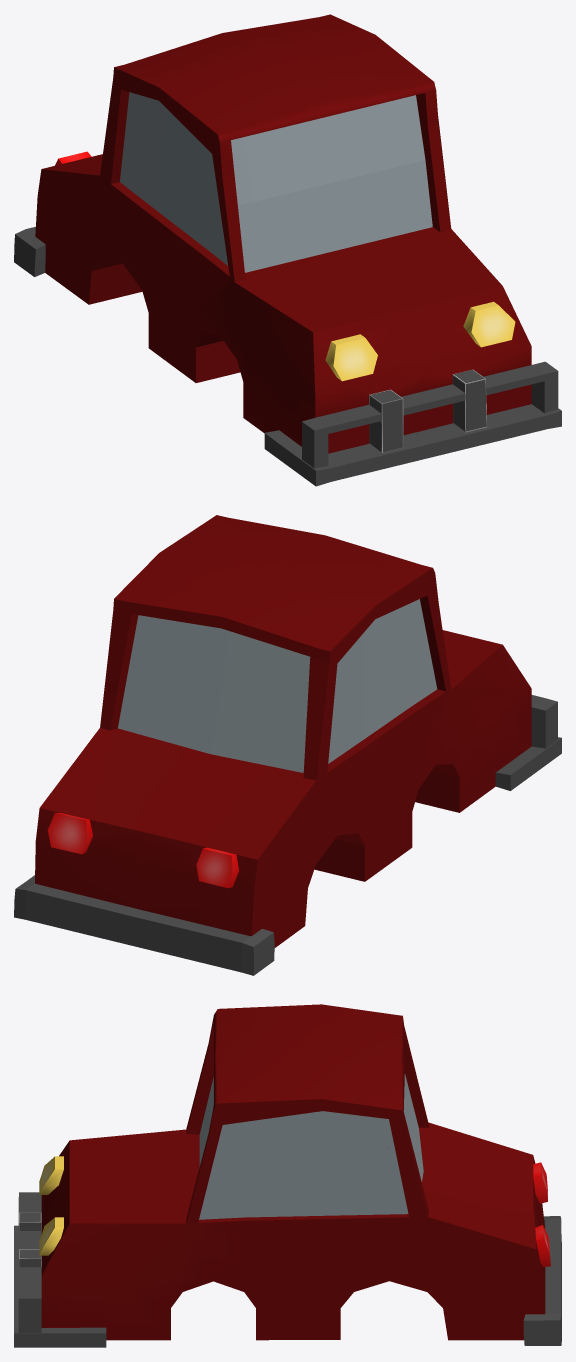
Rendered from Dief_Auto_Export.fbx.
The picture shows the model from 3 angles, top to bottom: view 1: azimuth 30°, elevation 25°; view 2: azimuth 150°, elevation 25°; view 3: azimuth 270°, elevation 25°; orthographic projection. The views are drawn at different scales.
Visible parts, largest first — view 1: polySurface2; view 2: polySurface2; view 3: polySurface2.
Boxes of the visible parts, left/top/right/bottom form: polySurface2: left=14, top=14, right=561, bottom=486; polySurface2: left=14, top=515, right=561, bottom=975; polySurface2: left=14, top=1004, right=561, bottom=1347.
Size of the model in its own units: 0.3332 by 0.3589 by 0.7167.
